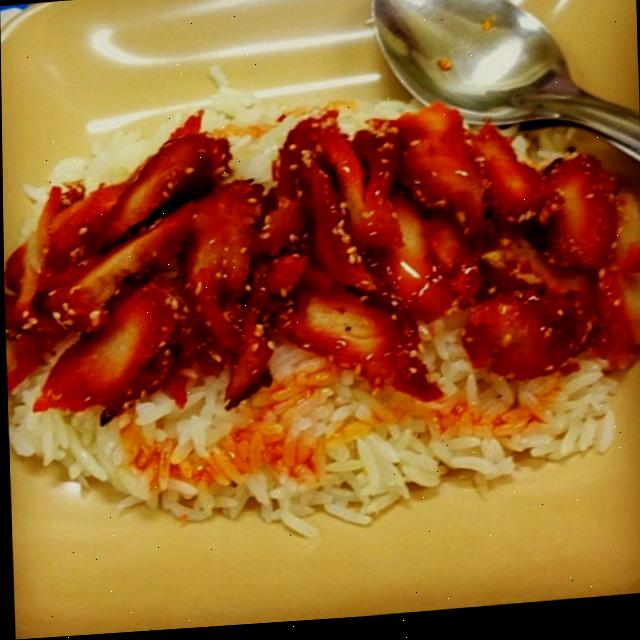猪肉菜式: (0, 0, 640, 592)
